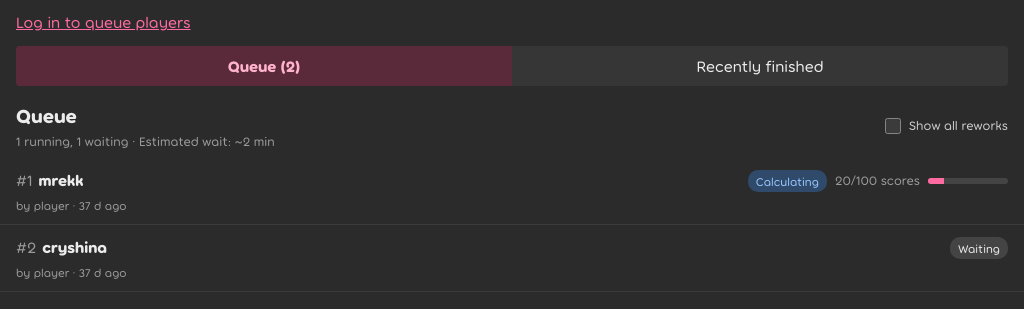
Test case: QueueTab › on a phone › switches between the queue and recently finished
Expected: the radio button labelled "Queue (2)" is checked, [16,46,512,86]
Expected: the text "cryshina" is shown, [42,236,107,256]
Click the radio button labelled "Recently finished" at coordinates (760, 66), box [512,46,1008,86]
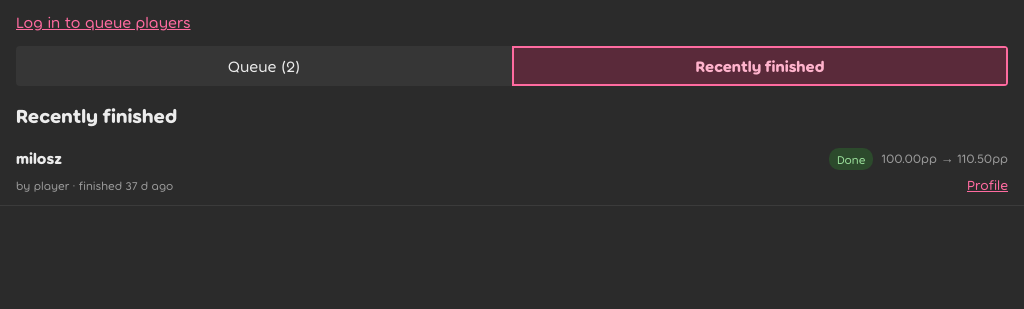
Expected: the text "milosz" is shown, [16,146,62,170]
Expected: the text "cryshina" is gone
